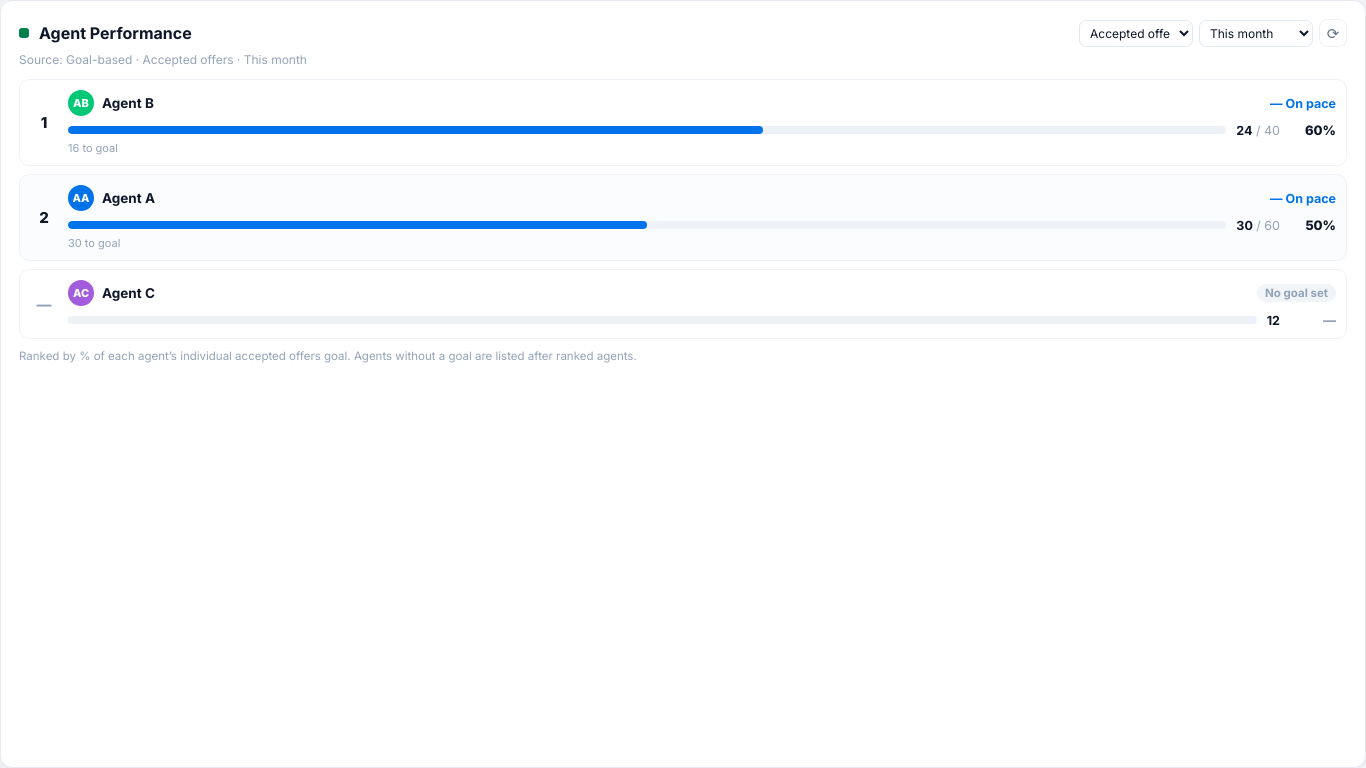
Test case: AgentPerformanceWidget — goal-based leaderboard › drills to the exact deals when a row is clicked
Click the text "Agent B".
click(128, 103)  # box x1=102 y1=95 x2=154 y2=111
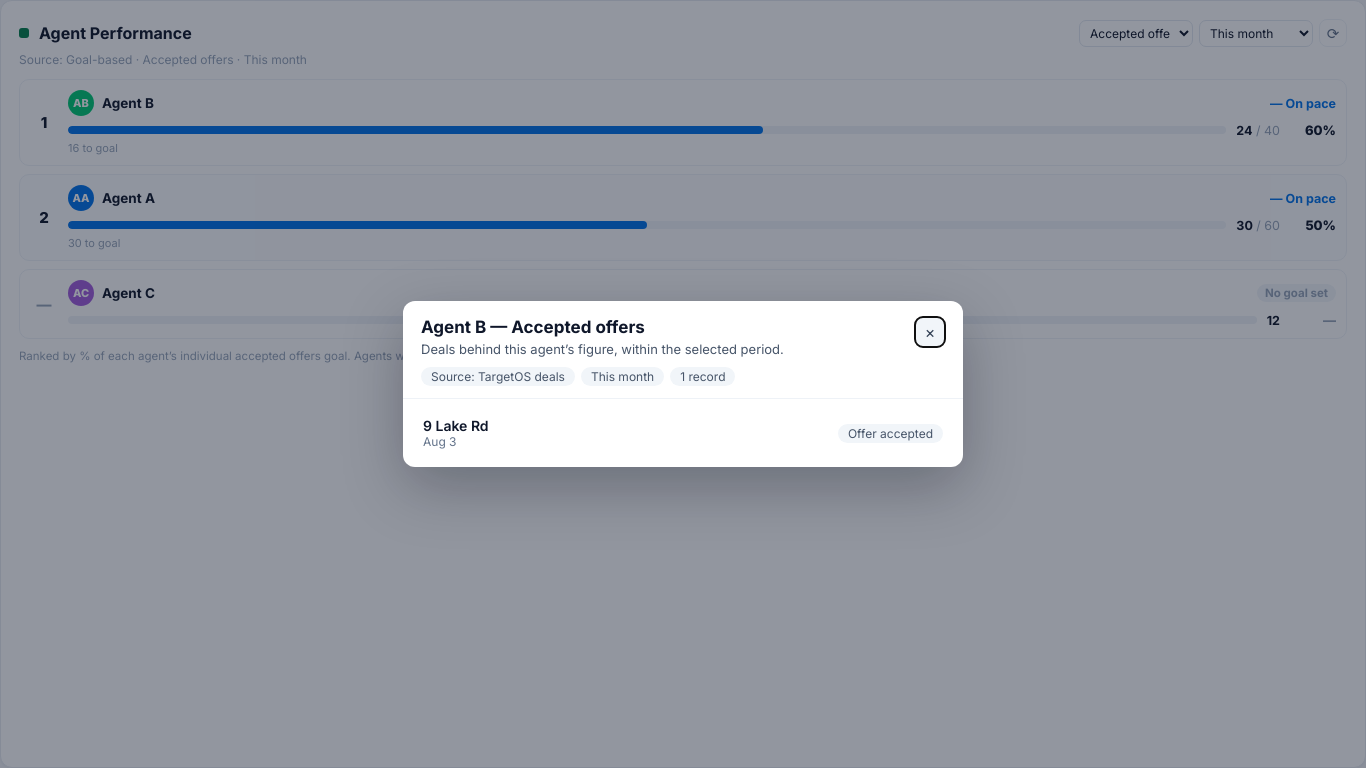
Check: the text "9 Lake Rd" is shown, box x1=423 y1=417 x2=489 y2=434
